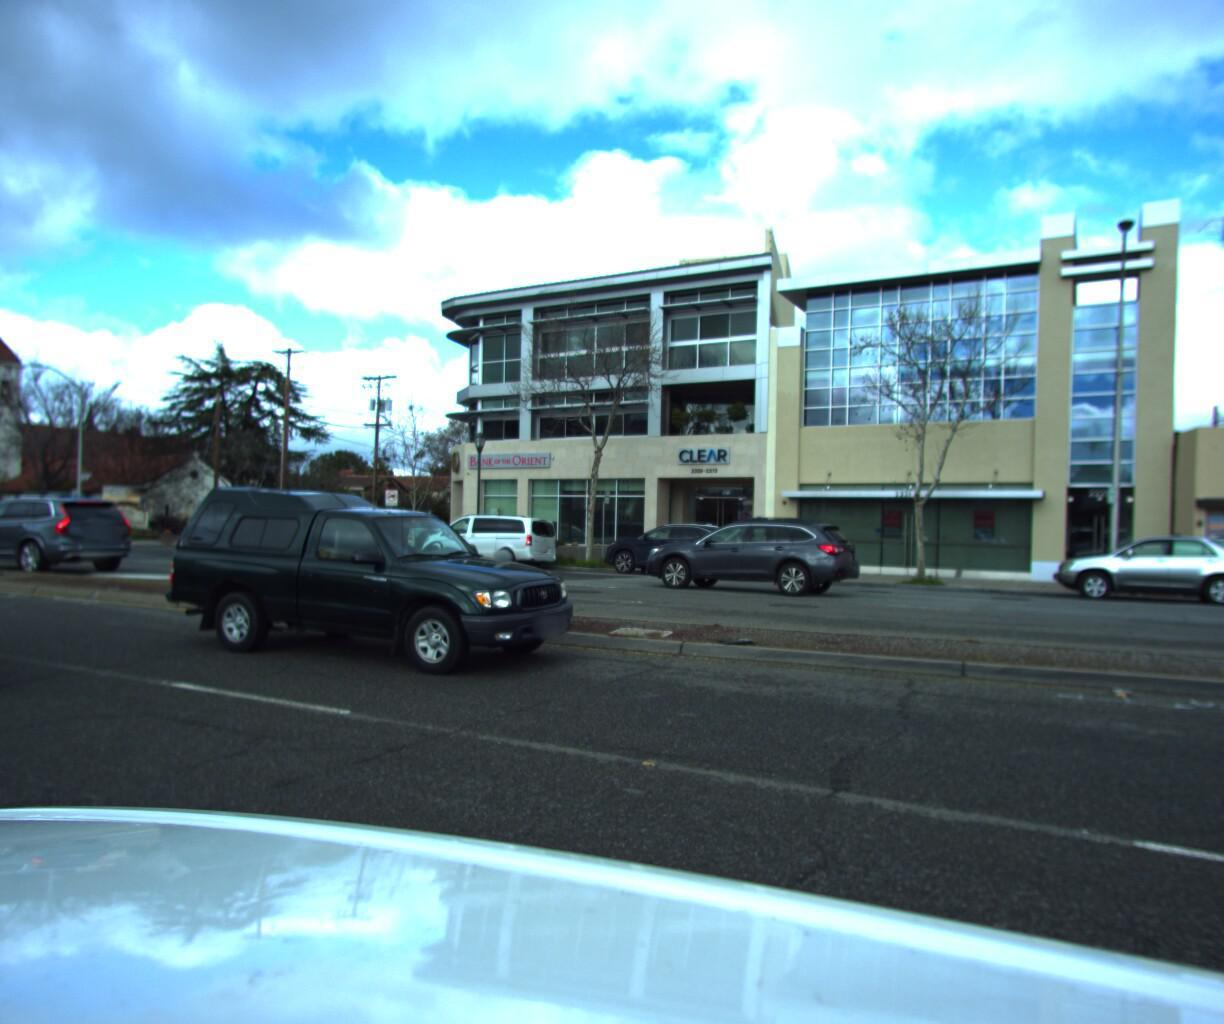car: (159, 477, 594, 683), (634, 509, 868, 595), (1041, 526, 1224, 610), (588, 515, 762, 580), (408, 507, 562, 567)
